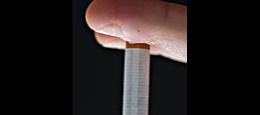Cigarette: (121, 0, 150, 115)
